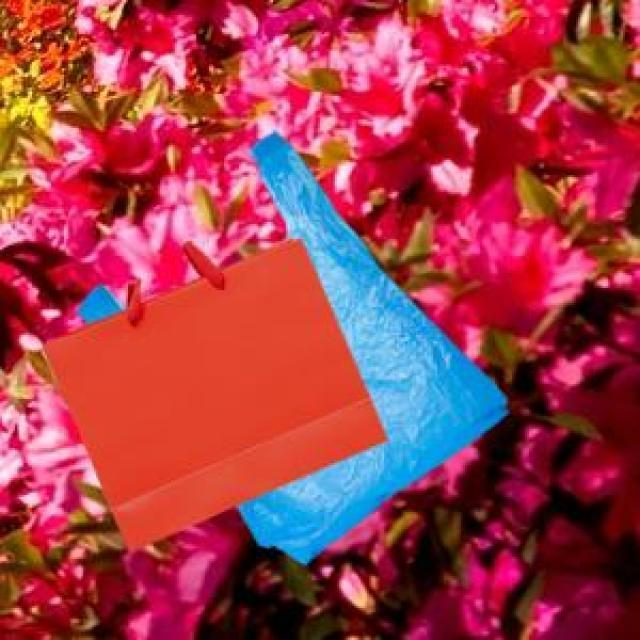paper: (38, 235, 384, 548)
